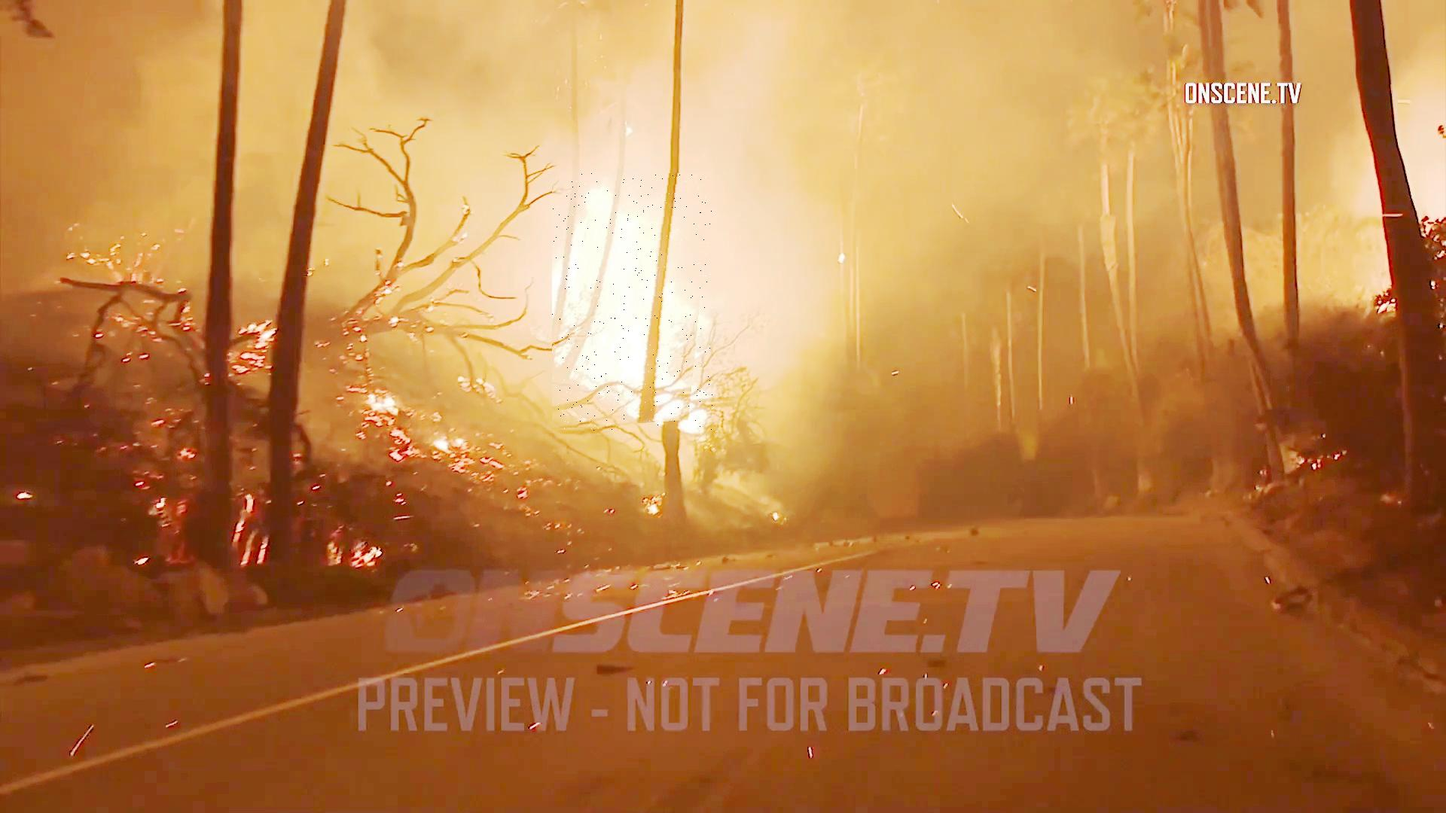fire: (552, 174, 713, 431)
